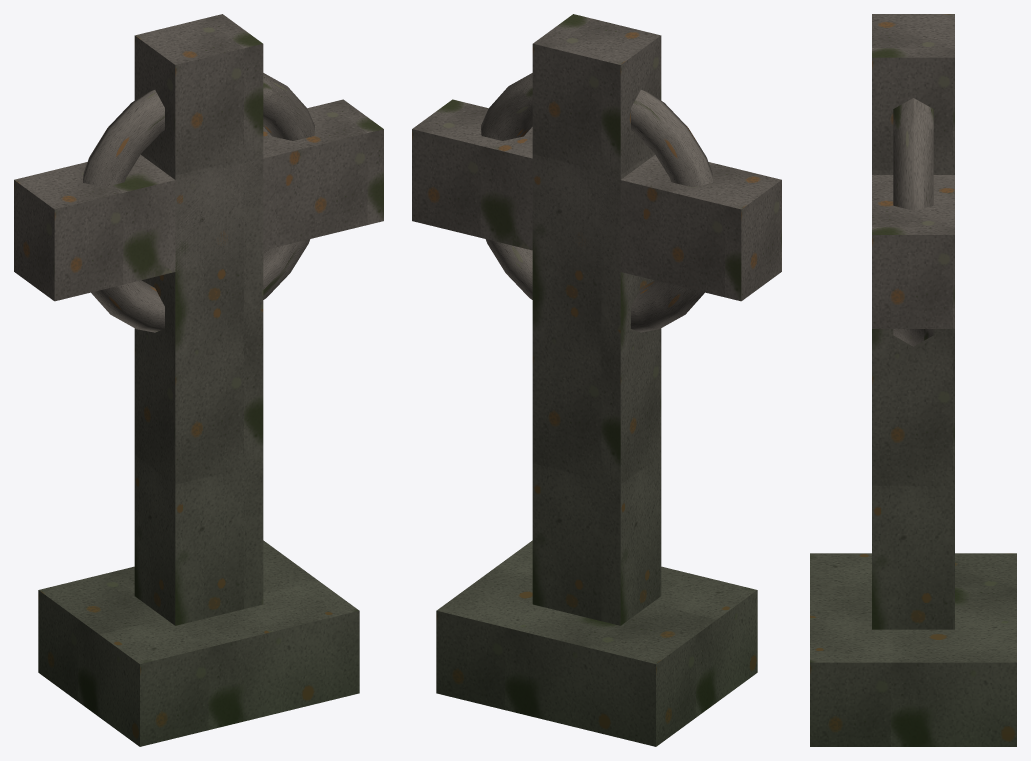
3 renders of one model, left to right at view 1: azimuth 30°, elevation 25°; view 2: azimuth 150°, elevation 25°; view 3: azimuth 270°, elevation 25°, orthographic. The views are drawn at different scales.
Visible parts, largest first — view 1: Cross; view 2: Cross; view 3: Cross.
Part boxes in pixels (x1=…): Cross: x1=14, y1=14, x2=383, y2=746; Cross: x1=412, y1=14, x2=781, y2=746; Cross: x1=810, y1=14, x2=1016, y2=746.
Bounding box in the file's own units: 0.75 × 1.4 × 0.4.
Materials: 1 (1 with a texture image).
